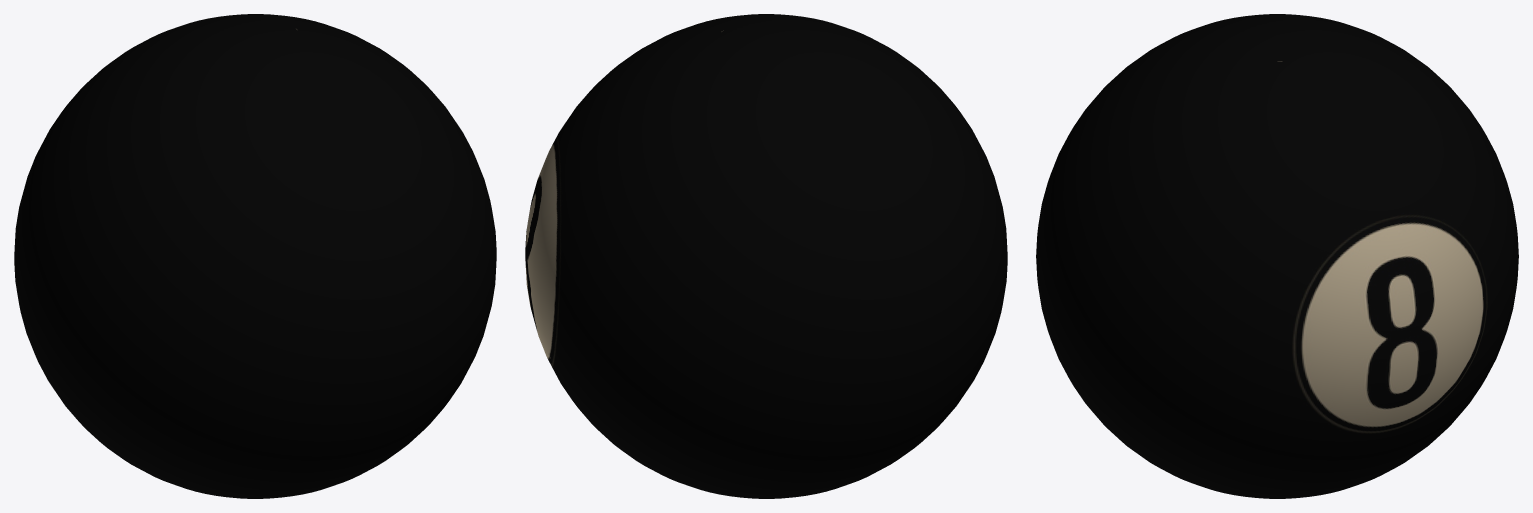
Rendered from pool_ball.glb.
3 views of the same model, side by side, from view 1: azimuth 30°, elevation 25°; view 2: azimuth 150°, elevation 25°; view 3: azimuth 270°, elevation 25° (orthographic).
Visible parts, largest first — view 1: Object_2; view 2: Object_2; view 3: Object_2.
Part boxes in pixels (x1,y1,x2,y2): Object_2: (14, 14, 496, 498); Object_2: (525, 14, 1007, 498); Object_2: (1036, 14, 1518, 498).
Size of the model in its own units: 1.97 by 2 by 1.97.
Materials: 1 (1 with a texture image).
